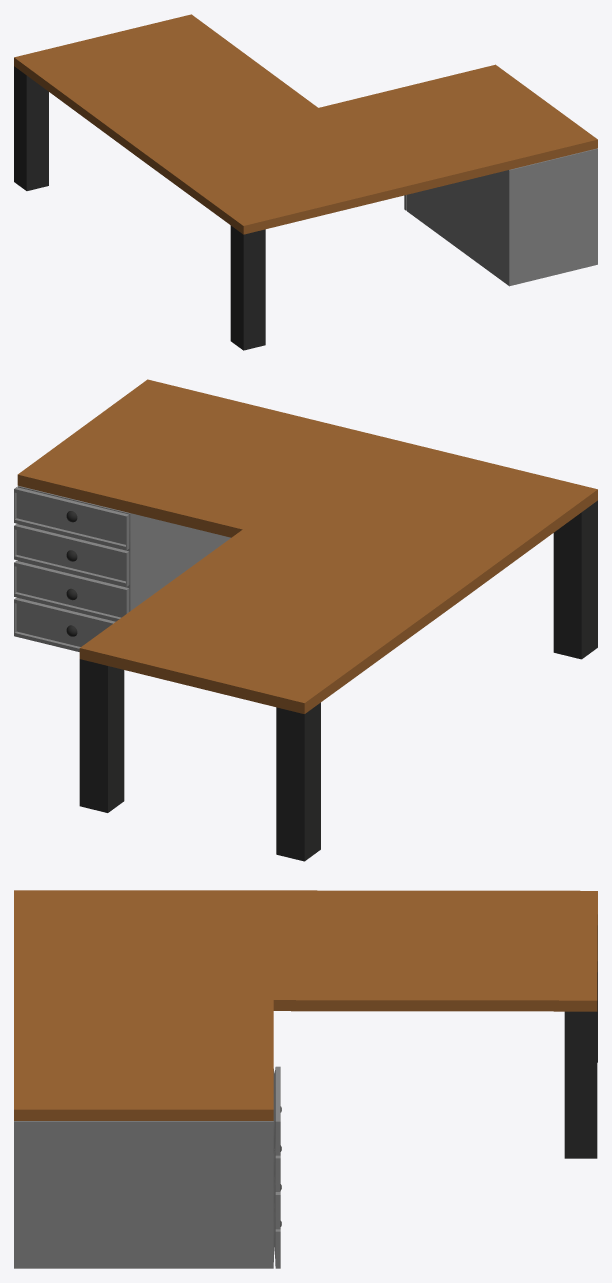
The model's file is L-ShapedDesk.fbx.
3 views of the same model, one above another, from view 1: azimuth 30°, elevation 25°; view 2: azimuth 150°, elevation 25°; view 3: azimuth 270°, elevation 25° (orthographic). The views are drawn at different scales.
Parts seen in each view (by area): view 1: L-ShapedDesk; view 2: L-ShapedDesk; view 3: L-ShapedDesk.
Part boxes in pixels (bbox=[...]): L-ShapedDesk: bbox=[14, 14, 597, 350]; L-ShapedDesk: bbox=[14, 379, 597, 861]; L-ShapedDesk: bbox=[14, 890, 597, 1268].
Size of the model in its own units: 1.6 by 1.8 by 0.5398.
